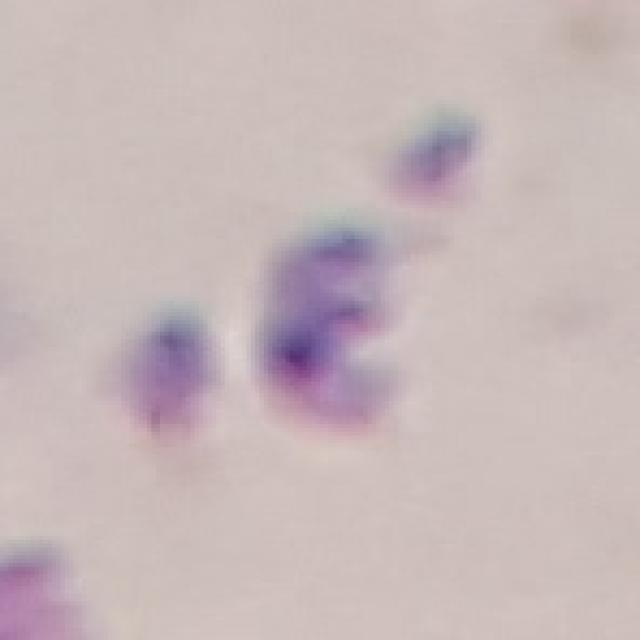non-sperm: (125, 227, 409, 433)
